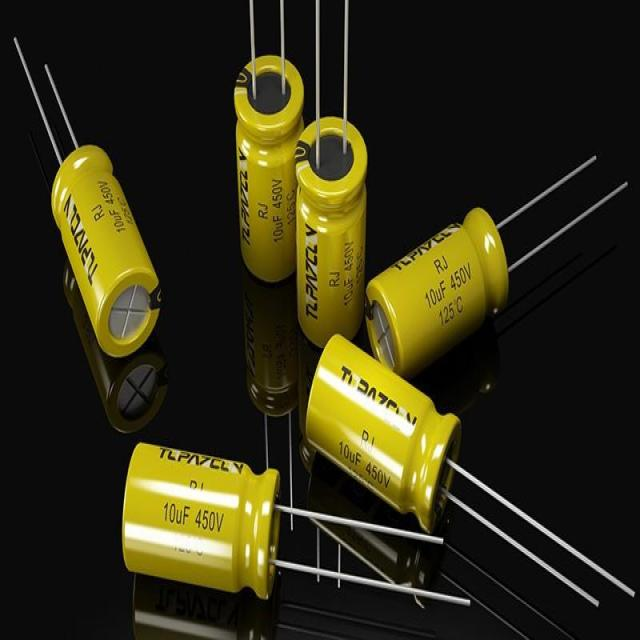Capacitor: (306, 333, 625, 604), (365, 156, 628, 376), (122, 444, 469, 605), (14, 38, 161, 356), (295, 0, 368, 347), (234, 40, 304, 283)
